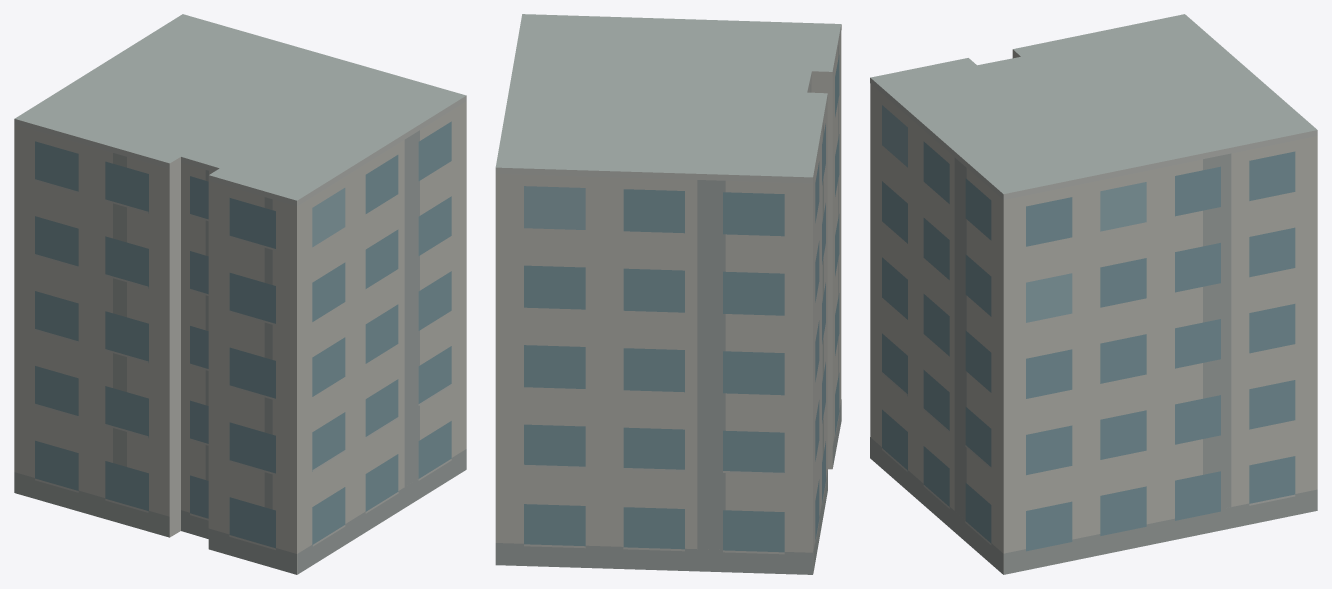
The model's file is survey-upis-32700658.glb.
3 views of the same model, side by side, from view 1: azimuth 30°, elevation 25°; view 2: azimuth 150°, elevation 25°; view 3: azimuth 270°, elevation 25° (orthographic). The views are drawn at different scales.
Visible parts, largest first — view 1: survey-upis-32700658.tmp; view 2: survey-upis-32700658.tmp; view 3: survey-upis-32700658.tmp.
Part boxes in pixels (x1=…): survey-upis-32700658.tmp: x1=14, y1=14, x2=466, y2=574; survey-upis-32700658.tmp: x1=495, y1=14, x2=841, y2=574; survey-upis-32700658.tmp: x1=870, y1=14, x2=1317, y2=574.
Bounding box in the file's own units: 16.25 × 16 × 17.05.
